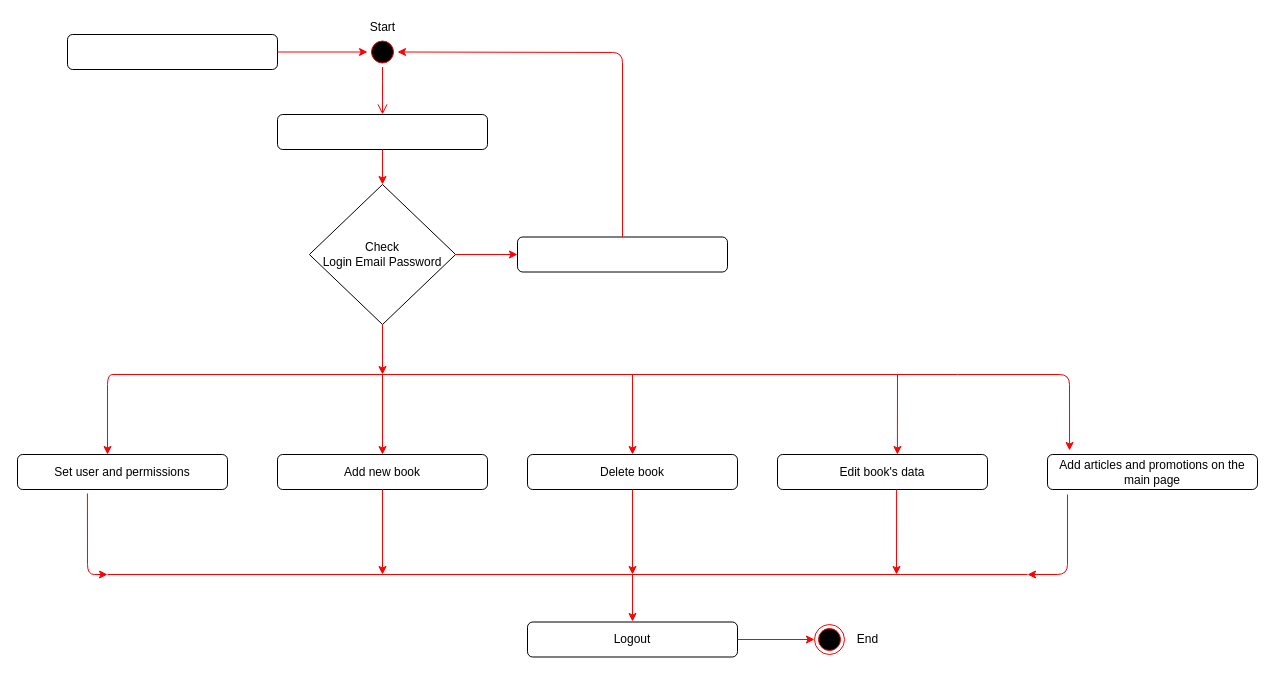
Some shapes in this 1275 by 675 pixel diagram are drawn without their labels. The centre of each missing label's shape, as x and y in pixels:
"Admin is Registered" belongs at (172,52).
"Admin Login Email and Password" belongs at (382,132).
"Invalid Login" belongs at (622,254).
